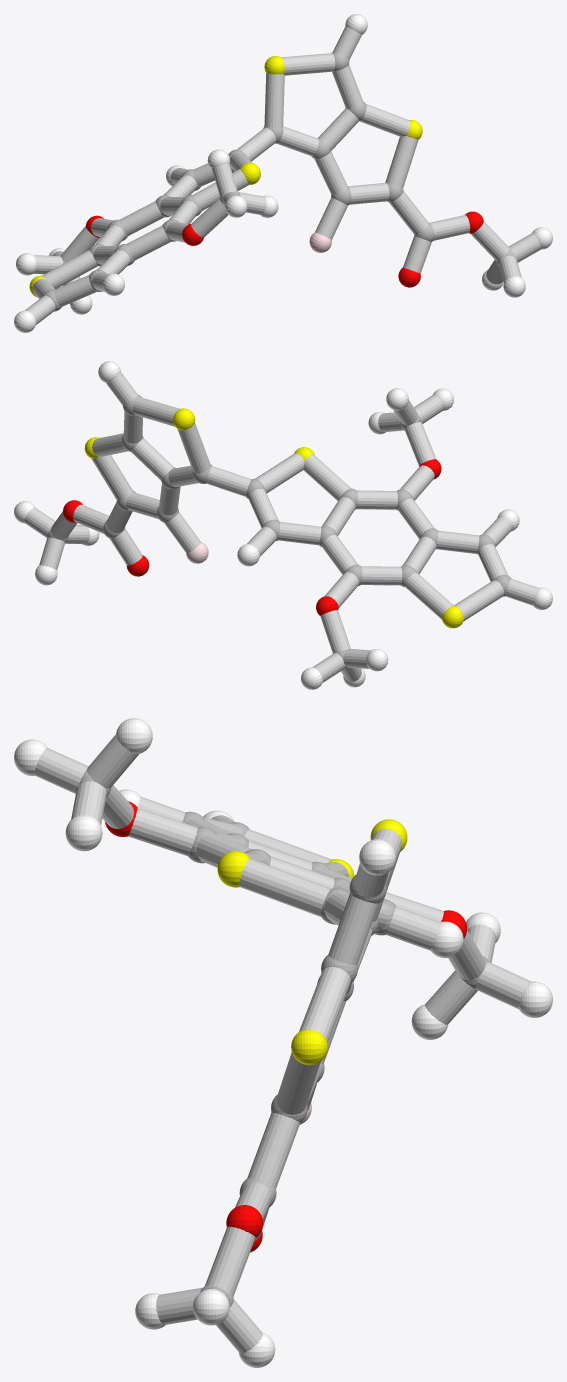
The model's file is color.glb.
The picture shows the model from 3 angles, top to bottom: view 1: azimuth 30°, elevation 25°; view 2: azimuth 150°, elevation 25°; view 3: azimuth 270°, elevation 25°; orthographic projection. The views are drawn at different scales.
Visible parts, largest first — view 1: grp15205, grp8689, grp1, grp13395, grp7241; view 2: grp15205, grp8689, grp1, grp7241, grp13395; view 3: grp15205, grp8689, grp1, grp7241, grp13395.
Boxes of the visible parts, <box> form: grp15205: <box>25,26,541,324</box>; grp8689: <box>14,14,552,332</box>; grp1: <box>42,52,515,311</box>; grp13395: <box>86,211,483,287</box>; grp7241: <box>29,56,422,297</box>; grp15205: <box>24,372,538,682</box>; grp8689: <box>14,361,552,689</box>; grp1: <box>47,394,511,668</box>; grp7241: <box>84,408,463,628</box>; grp13395: <box>63,459,441,615</box>; grp15205: <box>34,734,531,1353</box>; grp8689: <box>14,718,552,1367</box>; grp1: <box>79,769,489,1307</box>; grp7241: <box>217,819,407,1065</box>; grp13395: <box>105,801,466,1252</box>.
Size of the model in its own units: 16.43 by 8 by 8.76.
